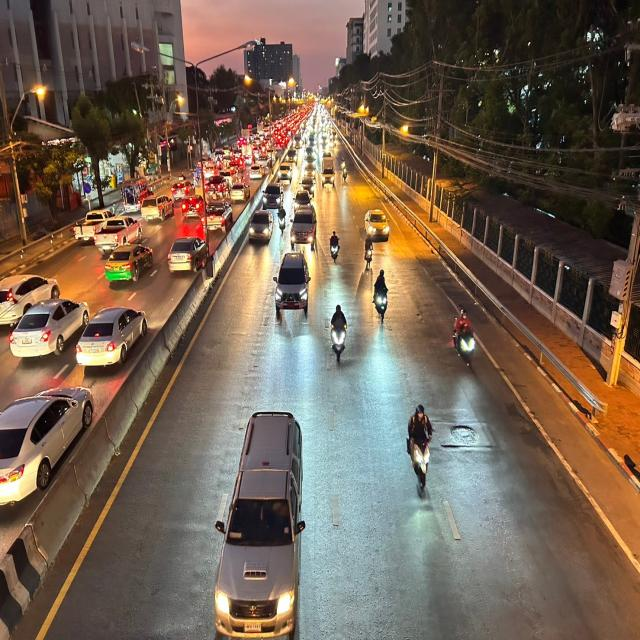bike: (405, 398, 434, 495), (450, 302, 478, 369), (327, 302, 349, 370), (371, 262, 392, 328)
